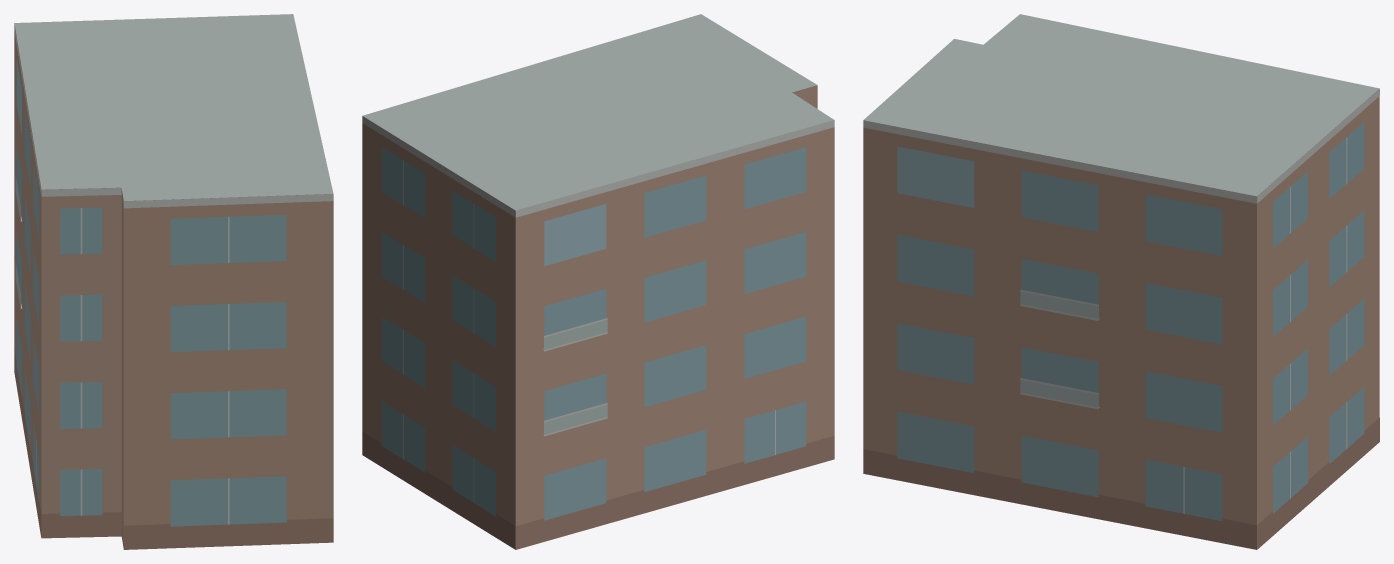
The model's file is survey-upis-32938385.glb.
3 views of the same model, side by side, from view 1: azimuth 30°, elevation 25°; view 2: azimuth 150°, elevation 25°; view 3: azimuth 270°, elevation 25° (orthographic). The views are drawn at different scales.
Visible parts, largest first — view 1: survey-upis-32938385.tmp; view 2: survey-upis-32938385.tmp; view 3: survey-upis-32938385.tmp.
Boxes of the visible parts, x1,y1,x2,y2 form: survey-upis-32938385.tmp: [14, 14, 333, 549]; survey-upis-32938385.tmp: [362, 14, 834, 549]; survey-upis-32938385.tmp: [863, 14, 1379, 549].
Bounding box in the file's own units: 12.96 × 11.7 × 15.5.
